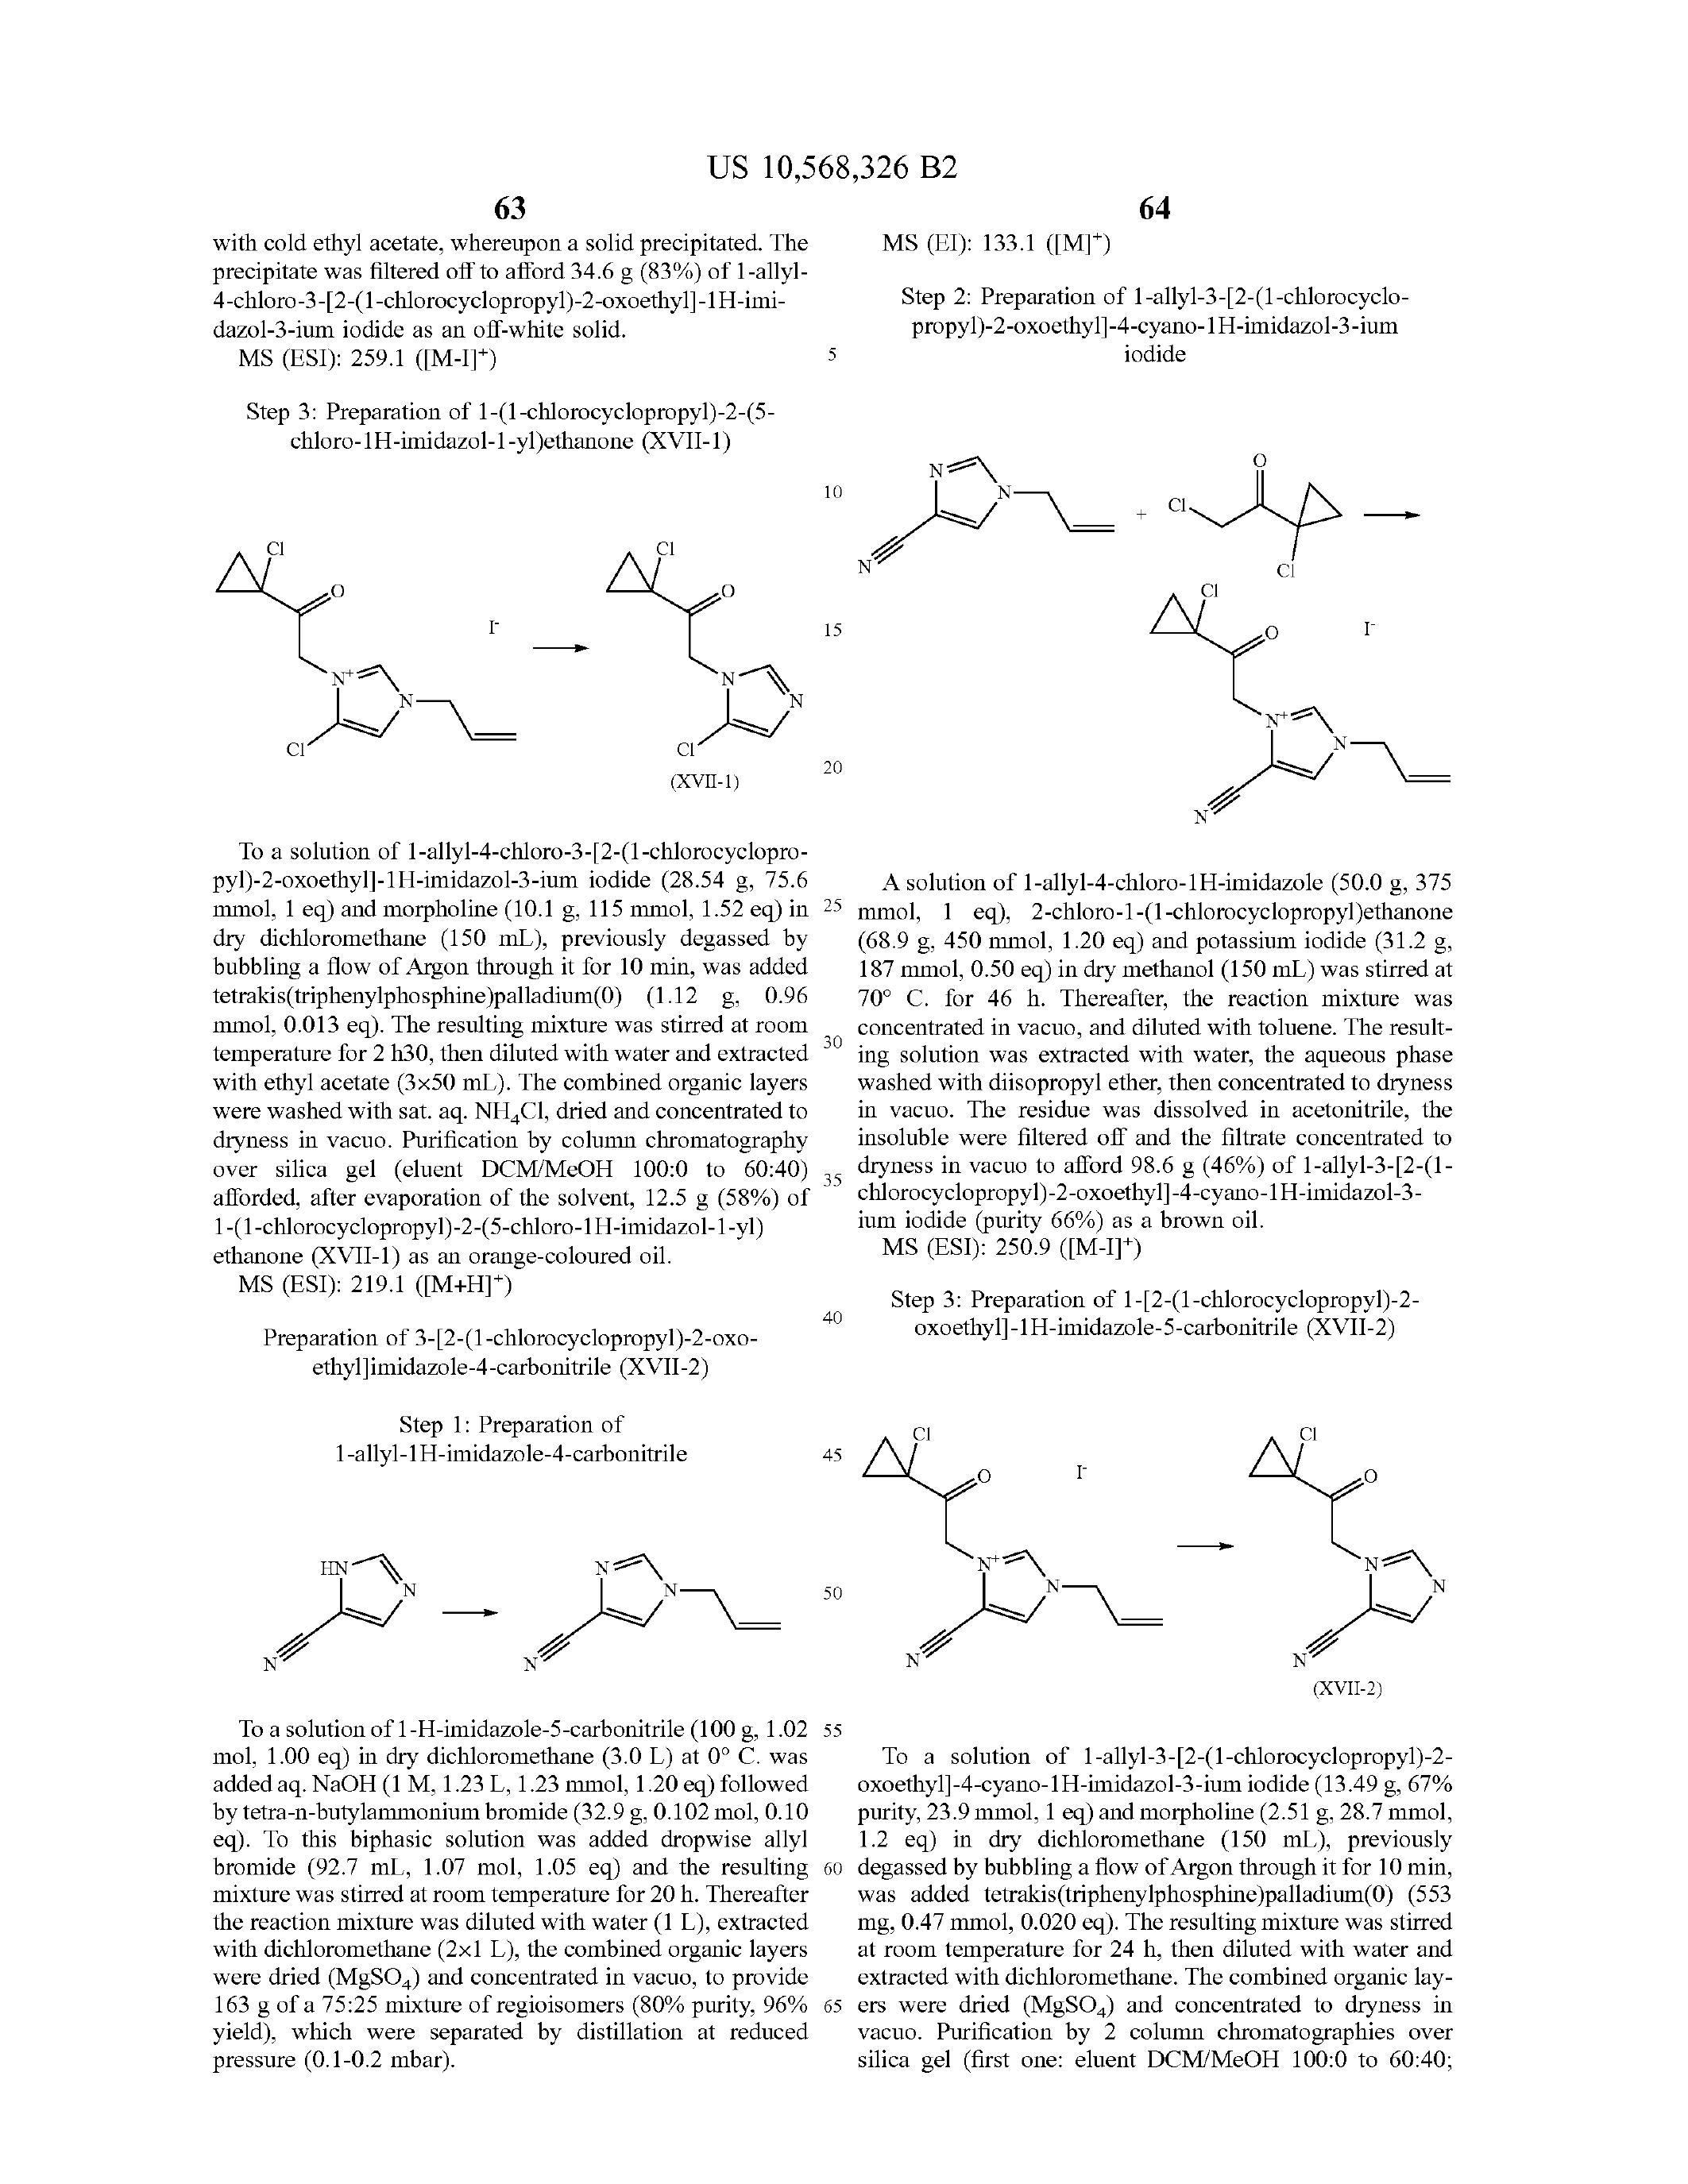reactions: (133, 445, 824, 831), (835, 411, 1452, 837), (860, 1381, 1484, 1698), (225, 1477, 810, 1677)
